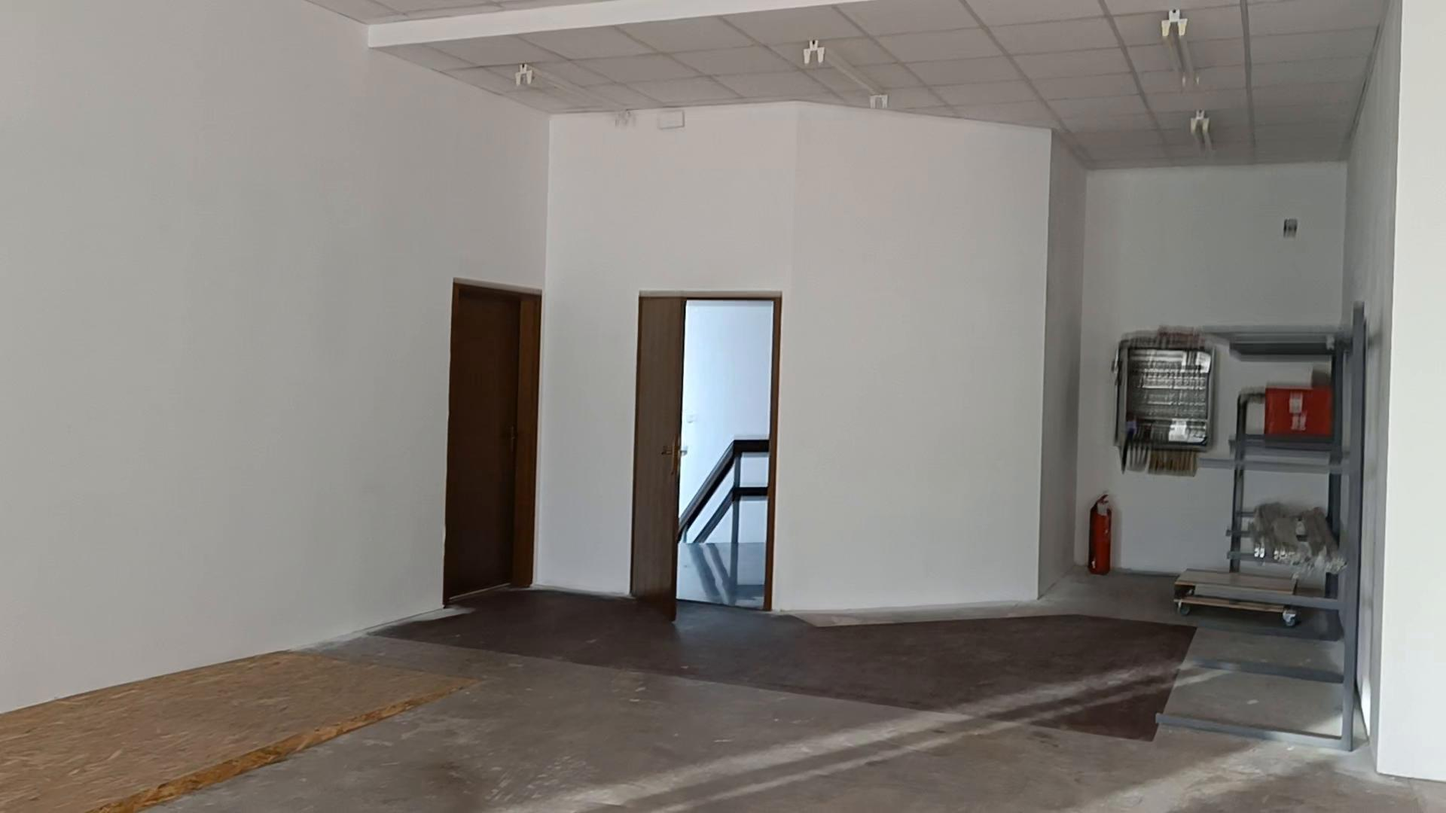ceiling: (383, 0, 1388, 169)
floor: (0, 574, 1445, 812)
wall: (0, 0, 1349, 711), (1350, 0, 1445, 779)
